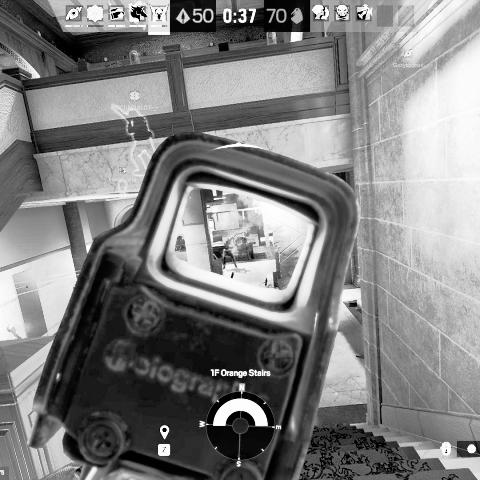Character: (222, 235, 237, 273)
Friend_label: (110, 89, 160, 112), (392, 47, 425, 70), (109, 166, 137, 182)
Head: (228, 235, 234, 241)
